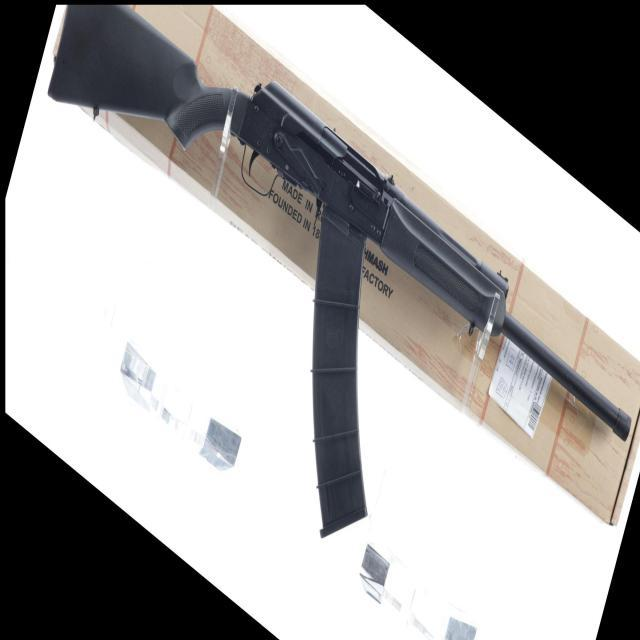weapon: (47, 5, 632, 539)
